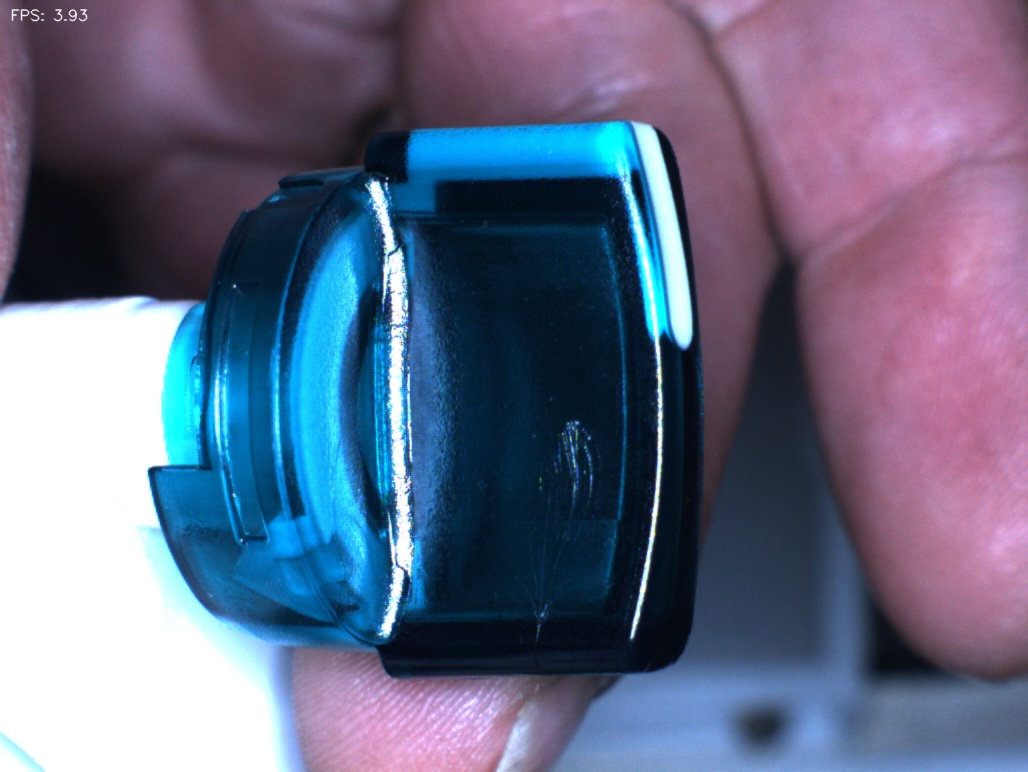Givrage: (508, 414, 600, 646)
